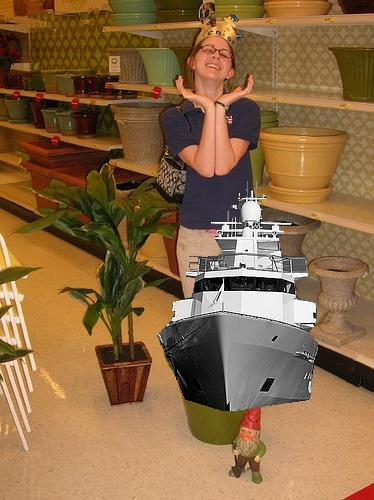tampered: (158, 182, 318, 411)
